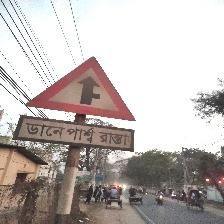Side-road-right: (18, 56, 138, 152)
